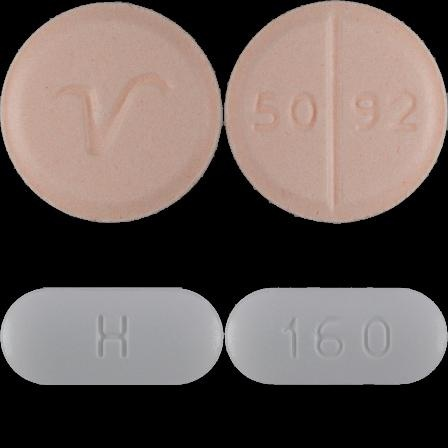50090-1990: (0, 0, 224, 224)
